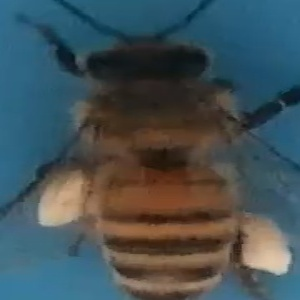bee: (20, 6, 293, 300)
